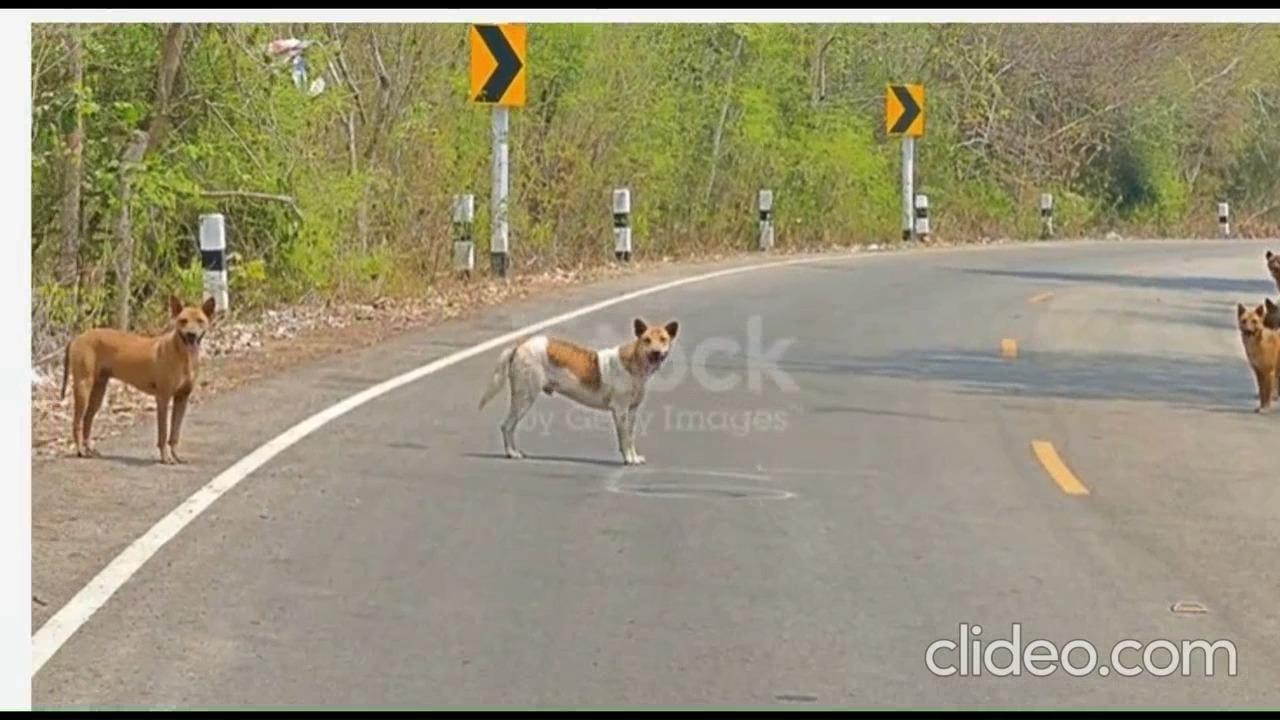dog: (489, 302, 683, 470), (64, 297, 205, 464), (1231, 294, 1276, 413)
